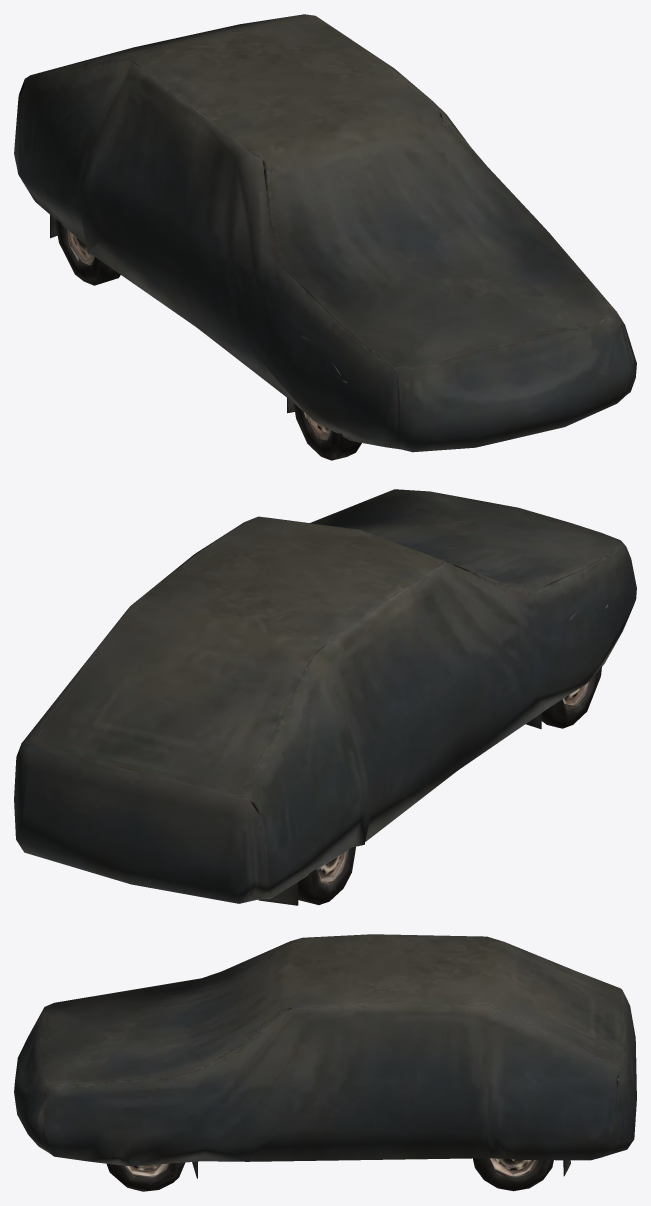
File: ph_covered_car.glb
3 renders of one model, top to bottom at view 1: azimuth 30°, elevation 25°; view 2: azimuth 150°, elevation 25°; view 3: azimuth 270°, elevation 25°, orthographic. The views are drawn at different scales.
Parts seen in each view (by area): view 1: covered_car_wheel_01; view 2: covered_car_wheel_01; view 3: covered_car_wheel_01.
Boxes of the visible parts, left/top/right/bottom form: covered_car_wheel_01: left=14, top=14, right=636, bottom=460; covered_car_wheel_01: left=14, top=489, right=636, bottom=905; covered_car_wheel_01: left=14, top=934, right=636, bottom=1191.
Size of the model in its own units: 1.79 by 1.41 by 4.38.
Materials: 1 (1 with a texture image).
